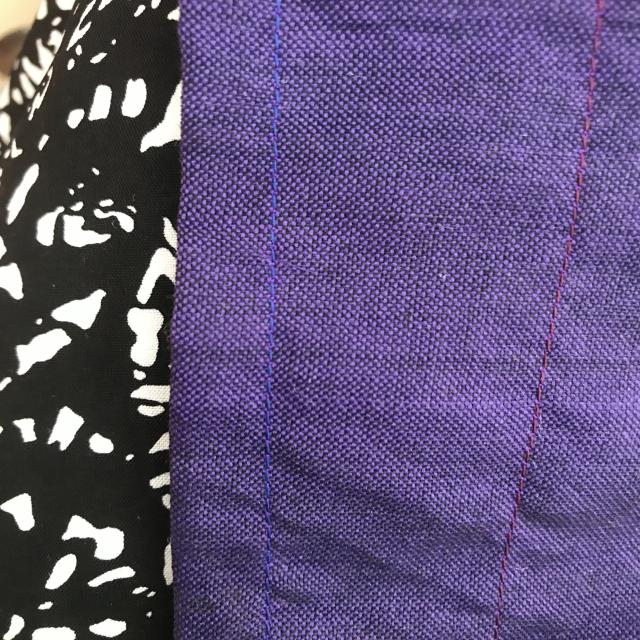good: (237, 376, 284, 568), (479, 484, 536, 601), (565, 65, 595, 252), (265, 110, 286, 366), (519, 334, 558, 459), (545, 268, 575, 317)
